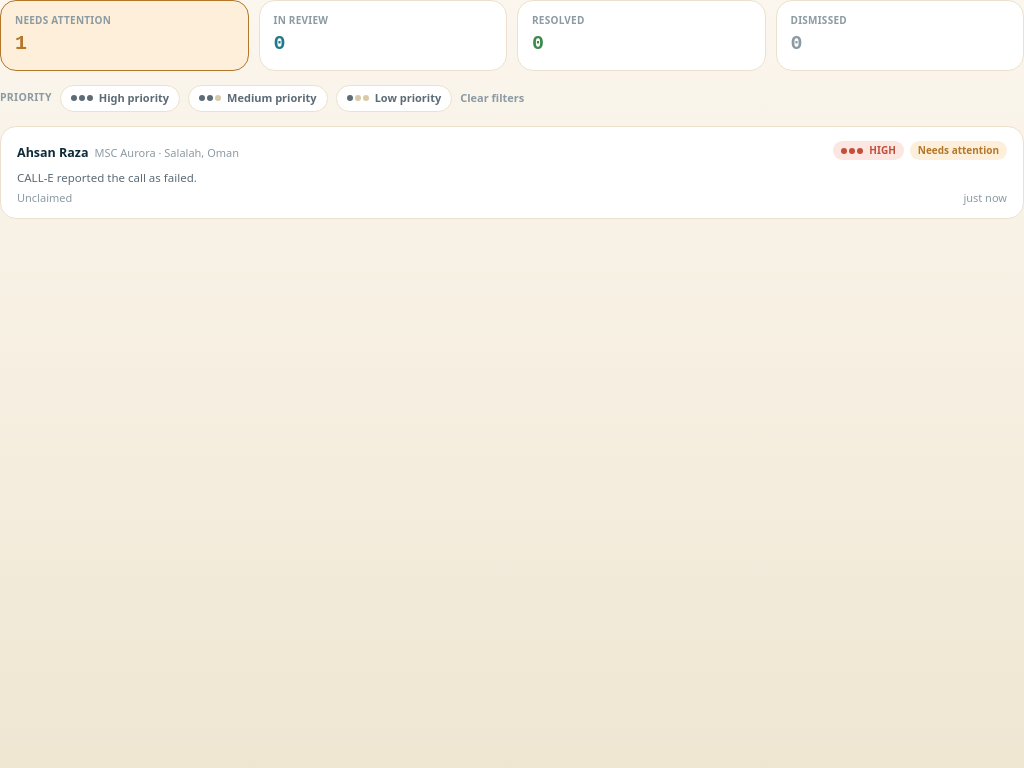
Scenario: YellowZonePage — claim flow and the modal-staleness regression › shows a Claim button for a PENDING item and no Resolve/Dismiss yet
The image size is (1024, 768).
Click the text "Ahsan Raza".
click(53, 152)  # box 17,144 -> 88,160
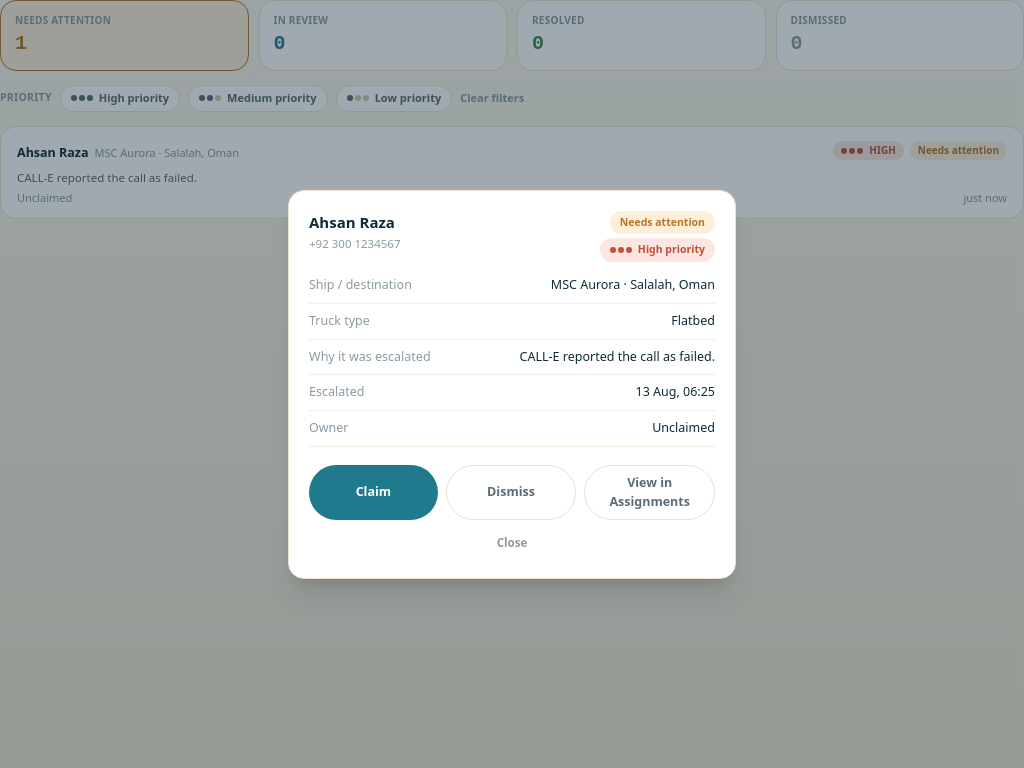
expect the button "Claim" is shown: met, box 309,465 -> 438,520
